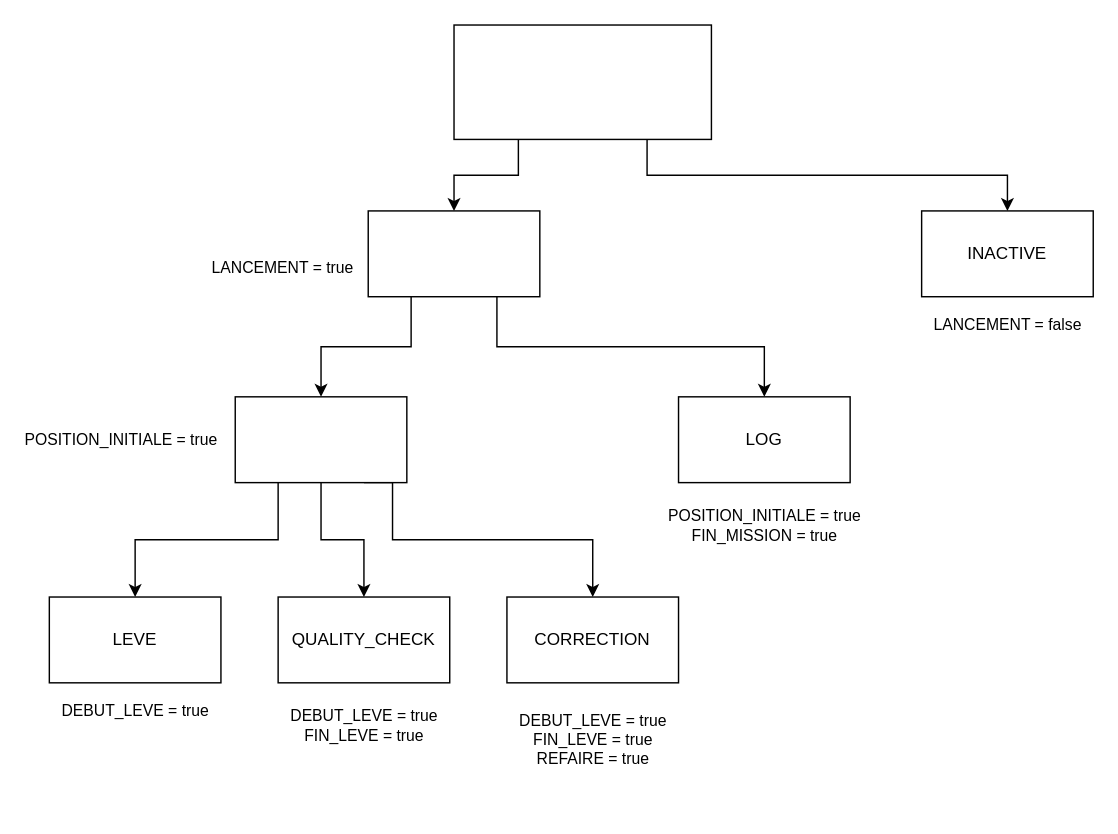
This 1118x834 diagram has some shape labels left out. Here are the shapes that lost their labels. From the top down, the centre of each, then its label:
point 582,81: GUERLEDAN_MARS_2017
point 453,253: ACTIVE
point 320,439: DEPART
